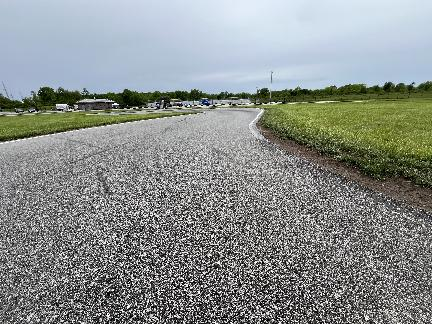Grass: (262, 100, 431, 203), (0, 111, 199, 140)
Lane: (0, 108, 431, 323)
